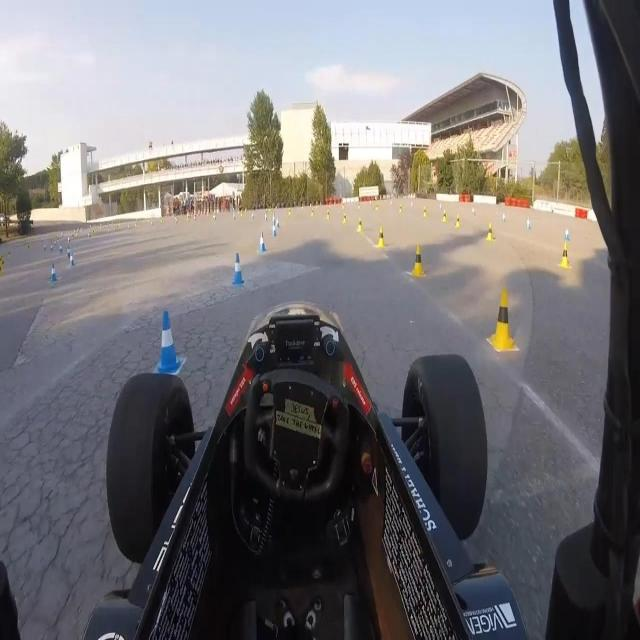blue_cone: (147, 308, 185, 379), (231, 249, 244, 288), (258, 231, 268, 255), (49, 262, 57, 284), (271, 225, 277, 240), (66, 245, 72, 260), (70, 252, 75, 267), (564, 227, 569, 240), (526, 217, 531, 229), (276, 216, 280, 228), (272, 213, 276, 223), (502, 212, 506, 222), (472, 206, 475, 218), (59, 243, 62, 254), (265, 213, 267, 220)
yellow_cone: (488, 289, 515, 354), (408, 241, 424, 277), (558, 243, 570, 271), (485, 222, 495, 243), (377, 223, 385, 248), (356, 216, 362, 232), (456, 214, 461, 228), (342, 212, 347, 225), (1, 256, 6, 268), (443, 209, 447, 223), (326, 209, 331, 220), (423, 204, 427, 216), (0, 264, 2, 279), (400, 205, 402, 214), (311, 209, 313, 216), (289, 210, 291, 217)
